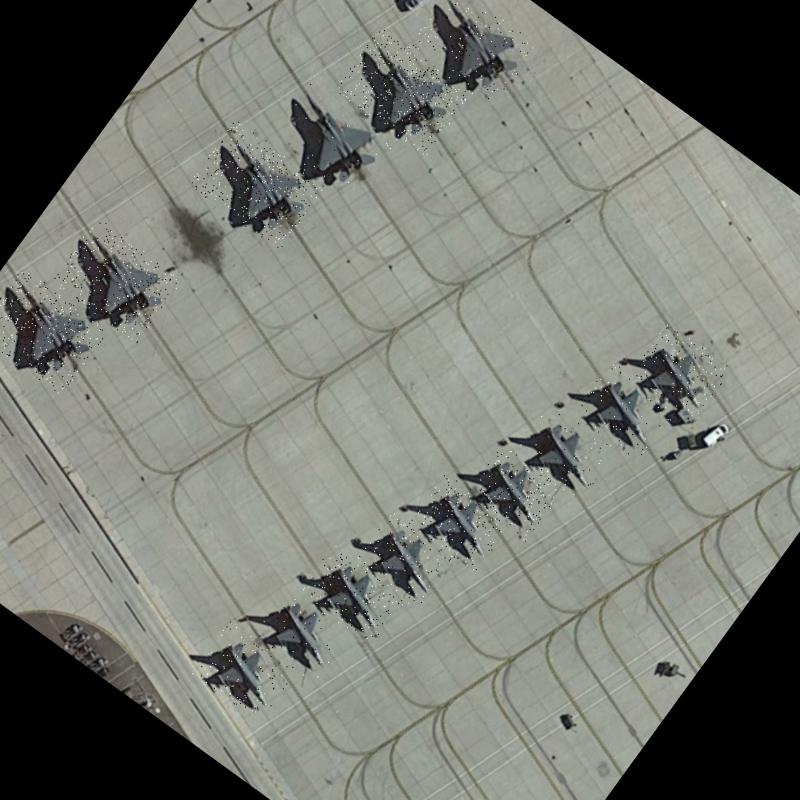A13: (260, 72, 401, 206), (334, 26, 473, 158), (187, 119, 326, 251), (49, 217, 182, 344), (0, 266, 109, 395), (409, 0, 538, 105)
A5: (299, 542, 408, 644), (572, 360, 678, 463), (190, 620, 297, 722), (628, 321, 733, 423), (512, 402, 617, 504), (408, 473, 514, 574), (250, 583, 354, 685), (352, 510, 454, 610), (463, 444, 564, 542)
